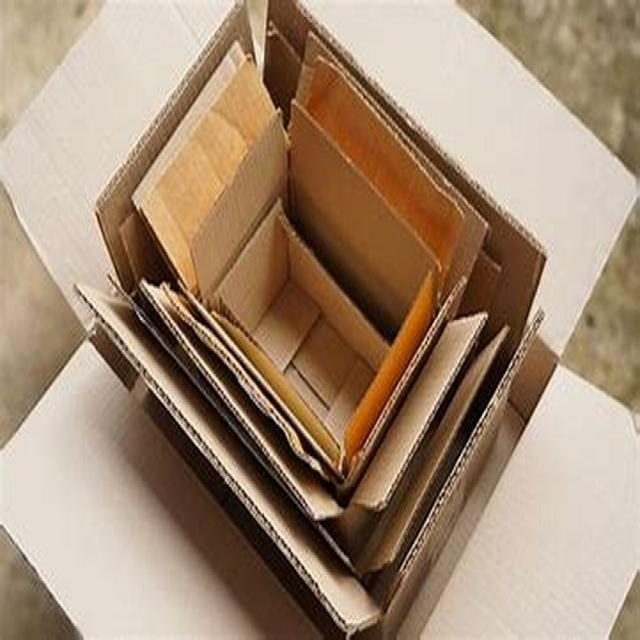box: (84, 10, 545, 626)
